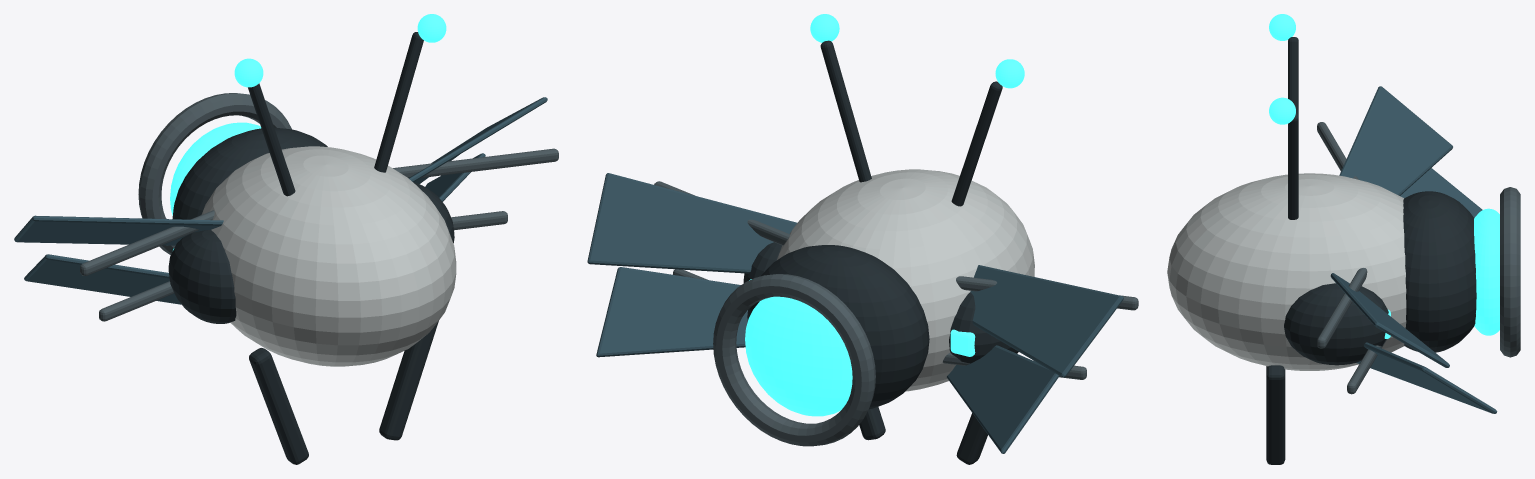
File: MUSCA_FormProxy_v0.3.fbx
3 views of the same model, side by side, from view 1: azimuth 30°, elevation 25°; view 2: azimuth 150°, elevation 25°; view 3: azimuth 270°, elevation 25° (orthographic). The views are drawn at different scales.
Visible parts, largest first — view 1: M03_Shell, M03_SidePod_-1, M03_OpticRing, M03_Core, M03_WingUpper_-1, M03_WingLower_-1, M03_Manipulator_-1, M03_Manipulator_1, M03_Spar_1_0.03, M03_Antenna_1, M03_Spar_-1_0.03, M03_Optic (+7 smaller); view 2: M03_Shell, M03_WingUpper_1, M03_Core, M03_OpticRing, M03_WingUpper_-1, M03_Optic, M03_WingLower_1, M03_WingLower_-1, M03_Antenna_1, M03_Antenna_-1, M03_SidePod_-1, M03_Manipulator_-1 (+7 smaller); view 3: M03_Shell, M03_Core, M03_WingUpper_-1, M03_SidePod_1, M03_OpticRing, M03_Optic, M03_WingLower_1, M03_Manipulator_1, M03_WingUpper_1, M03_WingLower_-1, M03_Antenna_1, M03_Spar_1_0.03 (+5 smaller).
Boxes of the visible parts, x1,y1,x2,y2 form: M03_Shell: (201, 146, 456, 366); M03_SidePod_-1: (168, 230, 236, 323); M03_OpticRing: (138, 93, 291, 255); M03_Core: (172, 127, 327, 219); M03_WingUpper_-1: (14, 215, 223, 245); M03_WingLower_-1: (24, 254, 181, 304); M03_Manipulator_-1: (249, 348, 308, 464); M03_Manipulator_1: (379, 321, 438, 440); M03_Spar_1_0.03: (393, 148, 558, 177); M03_Antenna_1: (374, 32, 423, 172); M03_Spar_-1_0.03: (80, 210, 214, 275); M03_Optic: (170, 122, 261, 215); M03_Shell: (777, 169, 1034, 391); M03_WingUpper_1: (587, 173, 797, 273); M03_Core: (747, 245, 929, 409); M03_OpticRing: (713, 274, 875, 446); M03_WingUpper_-1: (970, 265, 1123, 377); M03_Optic: (745, 296, 852, 416); M03_WingLower_1: (596, 267, 747, 357); M03_WingLower_-1: (947, 345, 1059, 453); M03_Antenna_1: (820, 40, 871, 182); M03_Antenna_-1: (951, 81, 1002, 206); M03_SidePod_-1: (949, 292, 1018, 363); M03_Manipulator_-1: (956, 413, 987, 464); M03_Shell: (1167, 173, 1406, 370); M03_Core: (1403, 191, 1476, 352); M03_WingUpper_-1: (1339, 86, 1452, 195); M03_SidePod_1: (1284, 283, 1388, 365); M03_OpticRing: (1500, 187, 1520, 357); M03_Optic: (1474, 208, 1499, 335); M03_WingLower_1: (1356, 342, 1497, 413); M03_Manipulator_1: (1266, 365, 1285, 464); M03_WingUpper_1: (1330, 273, 1449, 367); M03_WingLower_-1: (1400, 168, 1482, 217); M03_Antenna_1: (1288, 113, 1298, 219); M03_Spar_1_0.03: (1317, 268, 1367, 348).
Size of the model in its own units: 40.91 by 31.28 by 26.06.
